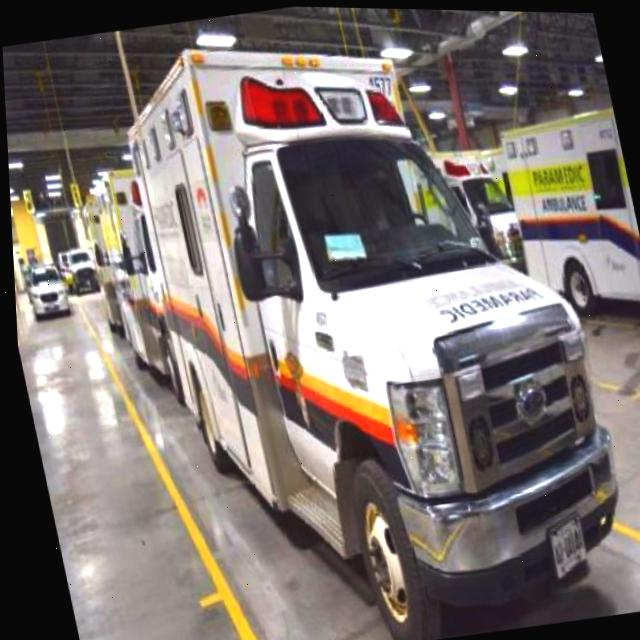emergency: (47, 1, 640, 640)
